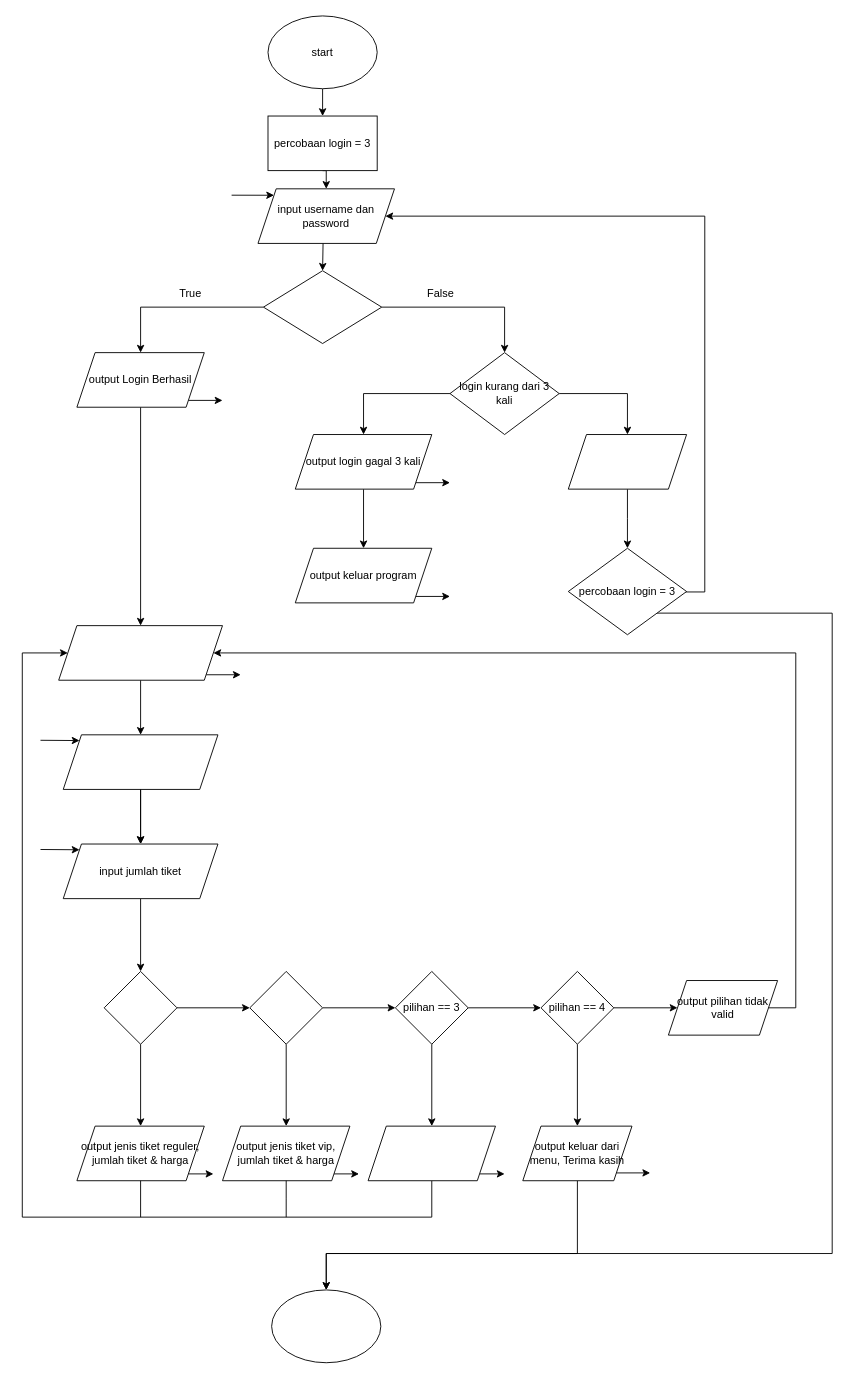
This 855x1379 diagram has some shape labels left out. The shapes that lost their labels are listed below. From the top down, each one's centre as x and y in pixels, then its label:
At [322,307]: "cek username dan pasword".
At [627,461]: "output login gagal silahkan coba lagi".
At [140,652]: "output Menu pembelian tiket".
At [140,761]: "input pilihan menu".
At [140,1007]: "pilihan == 1".
At [286,1007]: "pilihan == 2".
At [431,1153]: "output jenis tiket vvip, jumlah tiket & harga".
At [326,1326]: "end".
